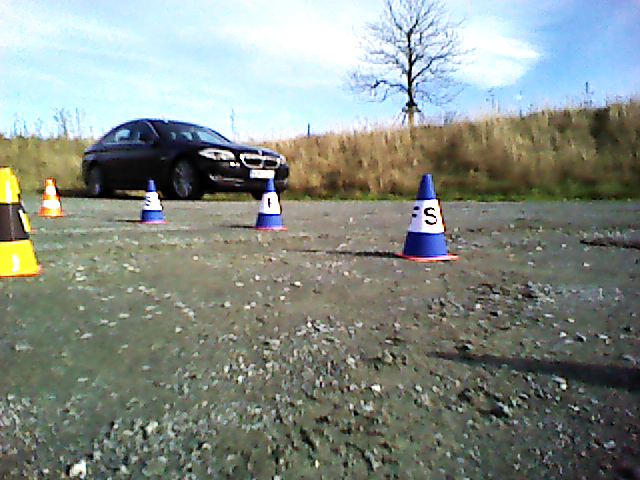bluecone: (404, 174, 447, 254), (255, 179, 284, 226), (141, 180, 164, 220)
orangeconesmall: (40, 178, 63, 216)
yellowcone: (1, 170, 38, 274)
